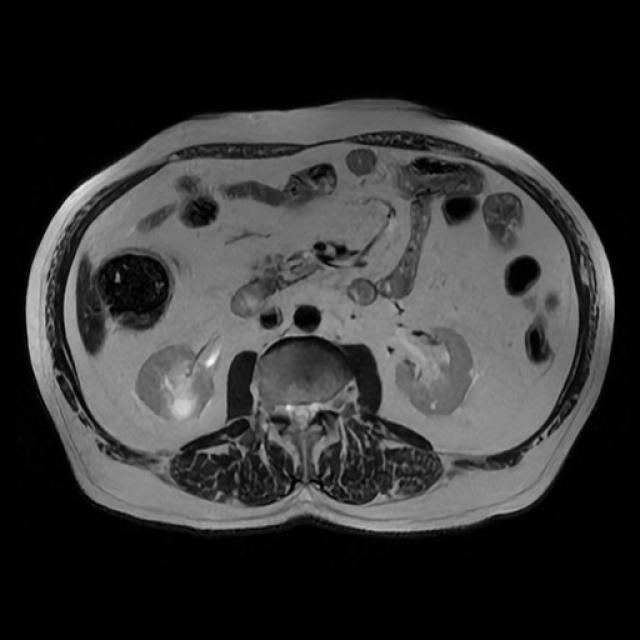sag: (137, 342, 220, 425)
sol: (394, 320, 475, 417)
